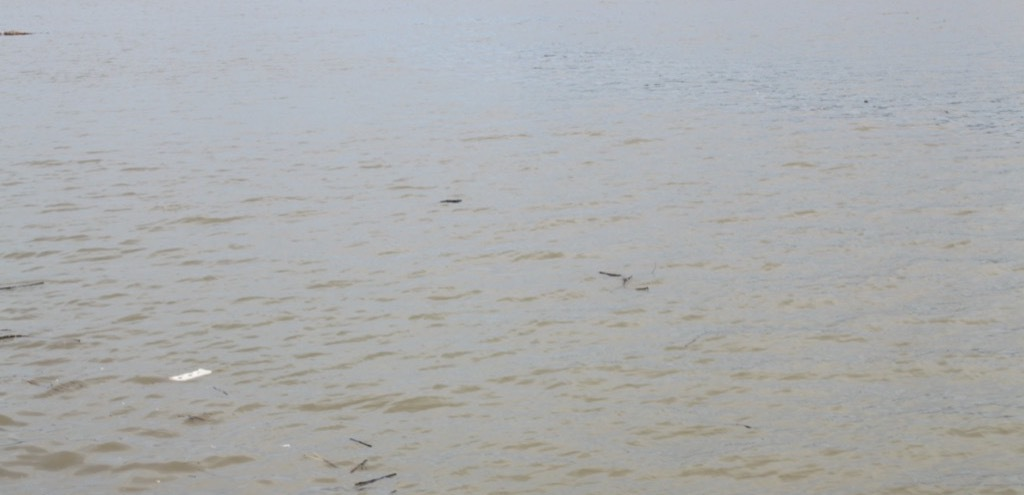organic: (173, 401, 223, 433), (711, 411, 766, 438), (352, 463, 403, 491), (298, 446, 345, 475), (1, 273, 48, 301), (201, 382, 250, 403), (1, 24, 53, 42), (1, 327, 45, 345), (343, 432, 381, 452), (591, 263, 628, 282), (345, 453, 374, 477), (433, 191, 467, 211), (632, 278, 658, 299), (619, 270, 638, 293), (859, 95, 873, 108)
plastic: (154, 351, 229, 395)
